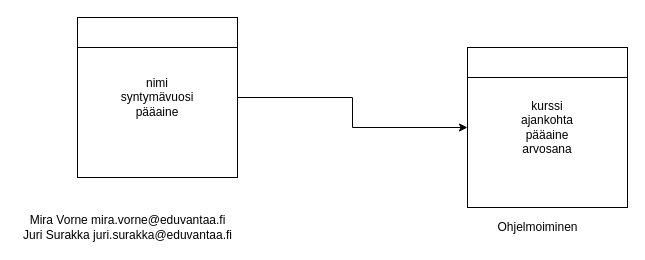
Some shapes in this 645 by 260 pixel diagram are drawn without their labels. Each missing label, with the centre of its shape:
Kurssit: [547,62]
Opettaja: [157,32]
